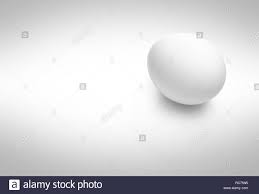egg: (148, 34, 227, 105)
